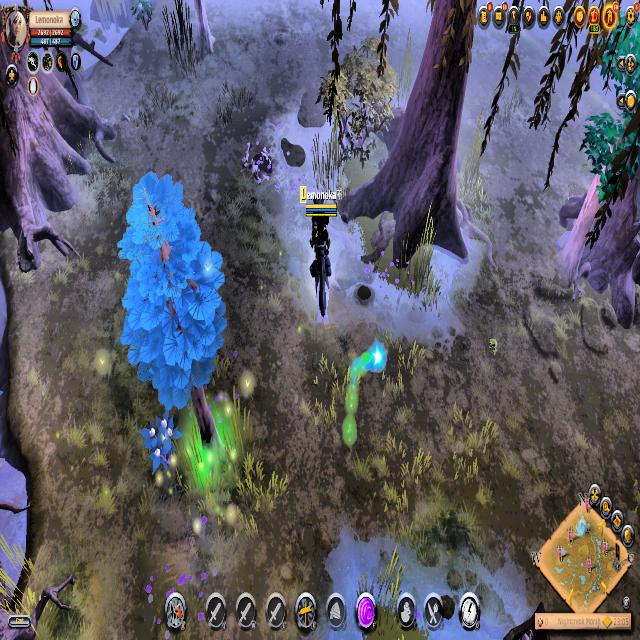fiber tier 4: (143, 416, 181, 482)
wood tier 4: (120, 174, 229, 412)
